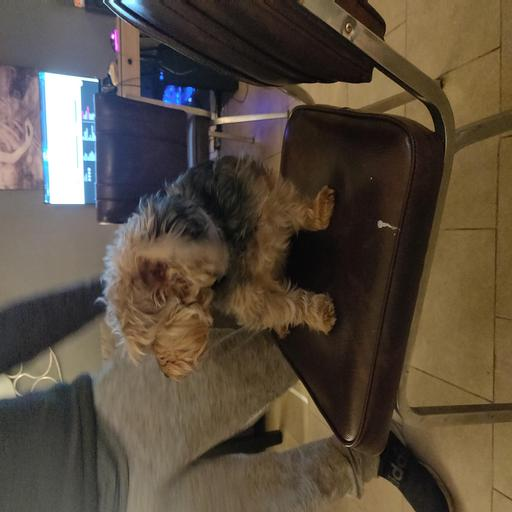dog: (95, 132, 351, 388)
